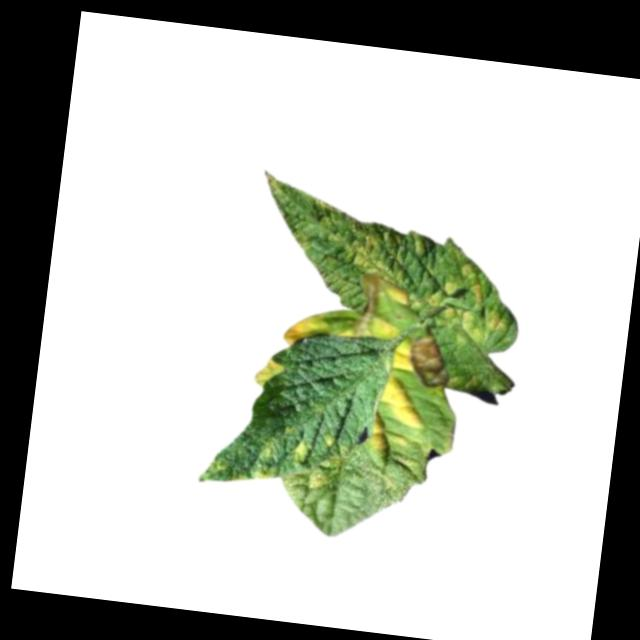Leaf_Mold: (427, 260, 515, 345), (337, 219, 414, 289), (375, 374, 433, 430), (281, 311, 328, 349), (365, 414, 403, 460), (250, 437, 286, 484), (362, 314, 400, 344), (392, 338, 419, 378), (253, 358, 286, 390), (307, 472, 337, 495), (292, 437, 314, 464)
